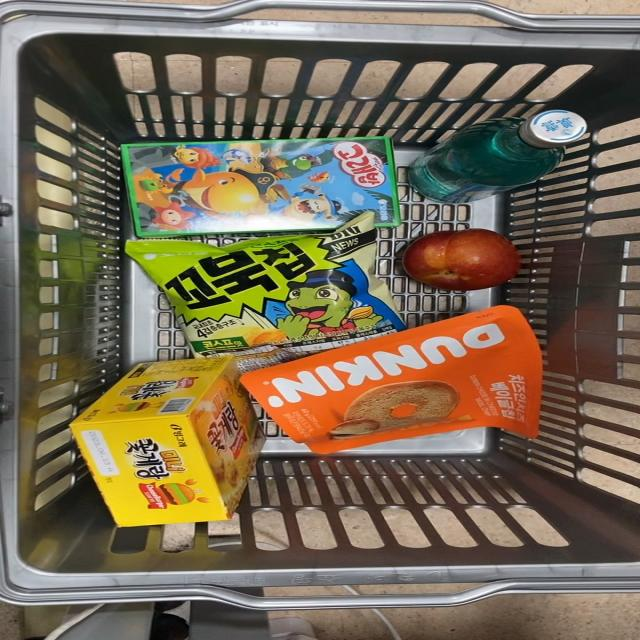cheesebagel: (227, 305, 553, 468)
ggobukchip: (119, 211, 425, 403)
goraebob: (125, 137, 405, 237)
jinro: (406, 86, 606, 214)
minicrab: (66, 353, 273, 529)
plum: (381, 228, 542, 299)
